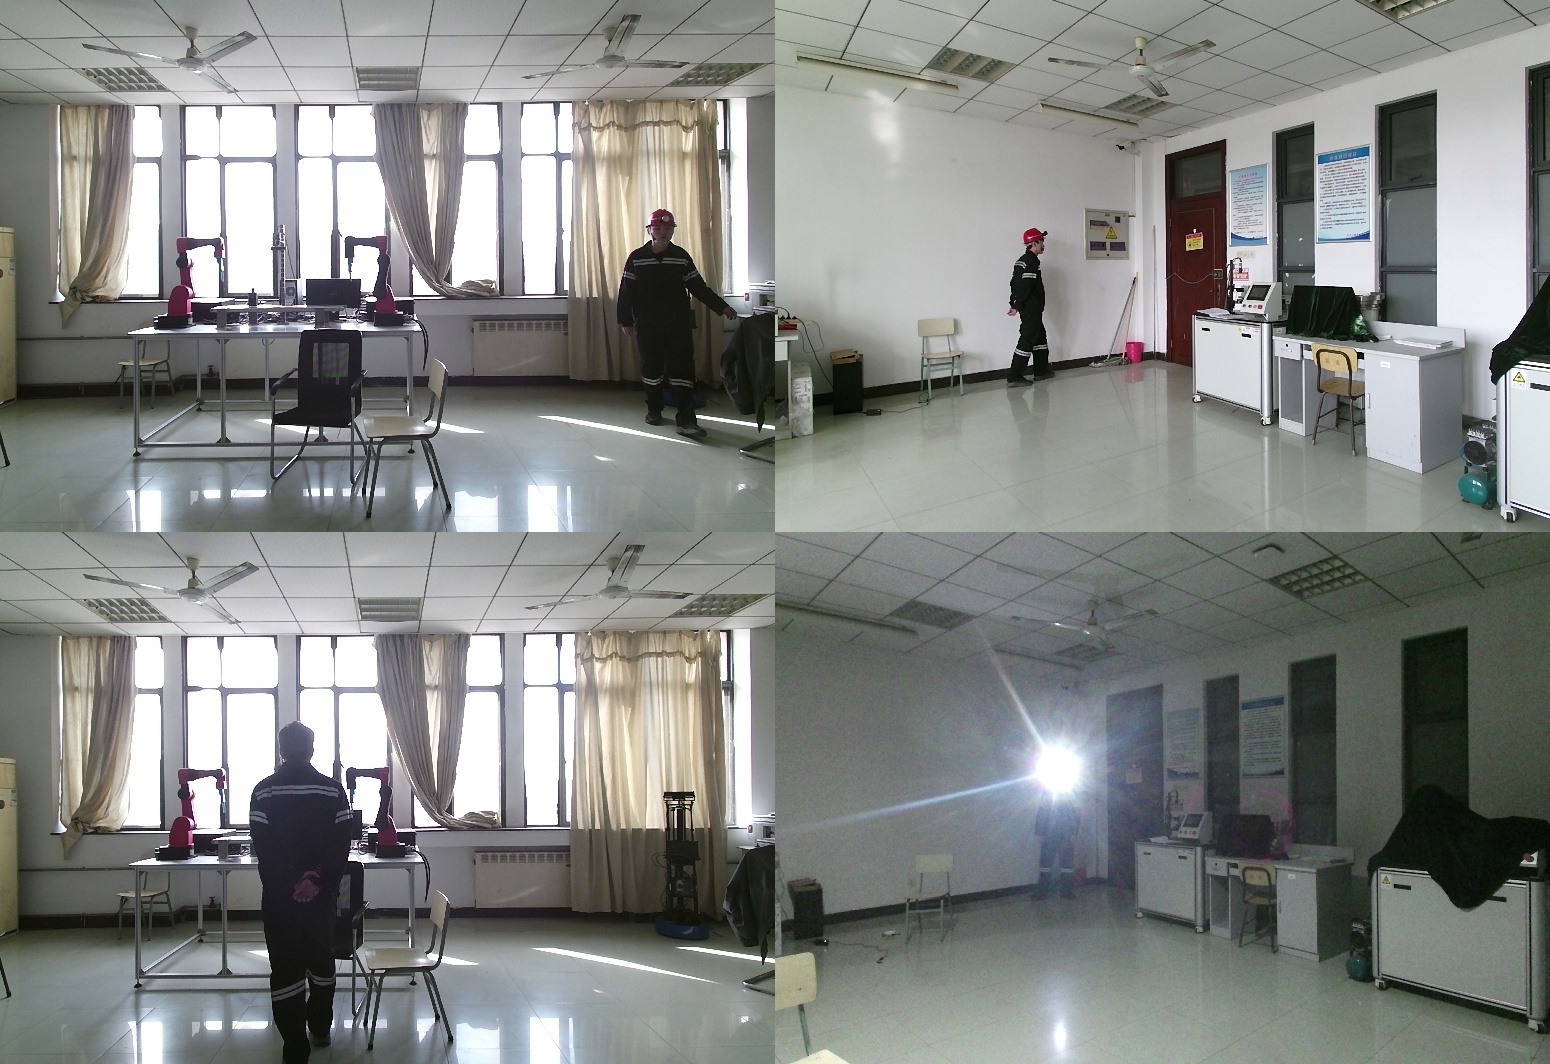person: (246, 724, 355, 1064), (620, 209, 725, 433), (1007, 232, 1054, 391), (1035, 766, 1083, 901)
